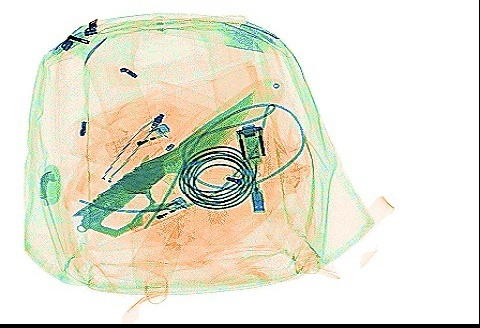lighter: (101, 122, 168, 159), (127, 195, 184, 231)
